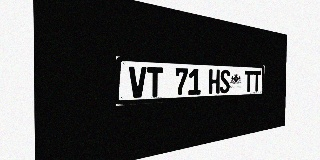1: (188, 68, 201, 95)
7: (174, 68, 188, 96)
H: (209, 69, 220, 94)
S: (220, 70, 230, 93)
T: (147, 67, 163, 97), (244, 70, 253, 92), (253, 71, 261, 92)
V: (129, 66, 146, 98)
